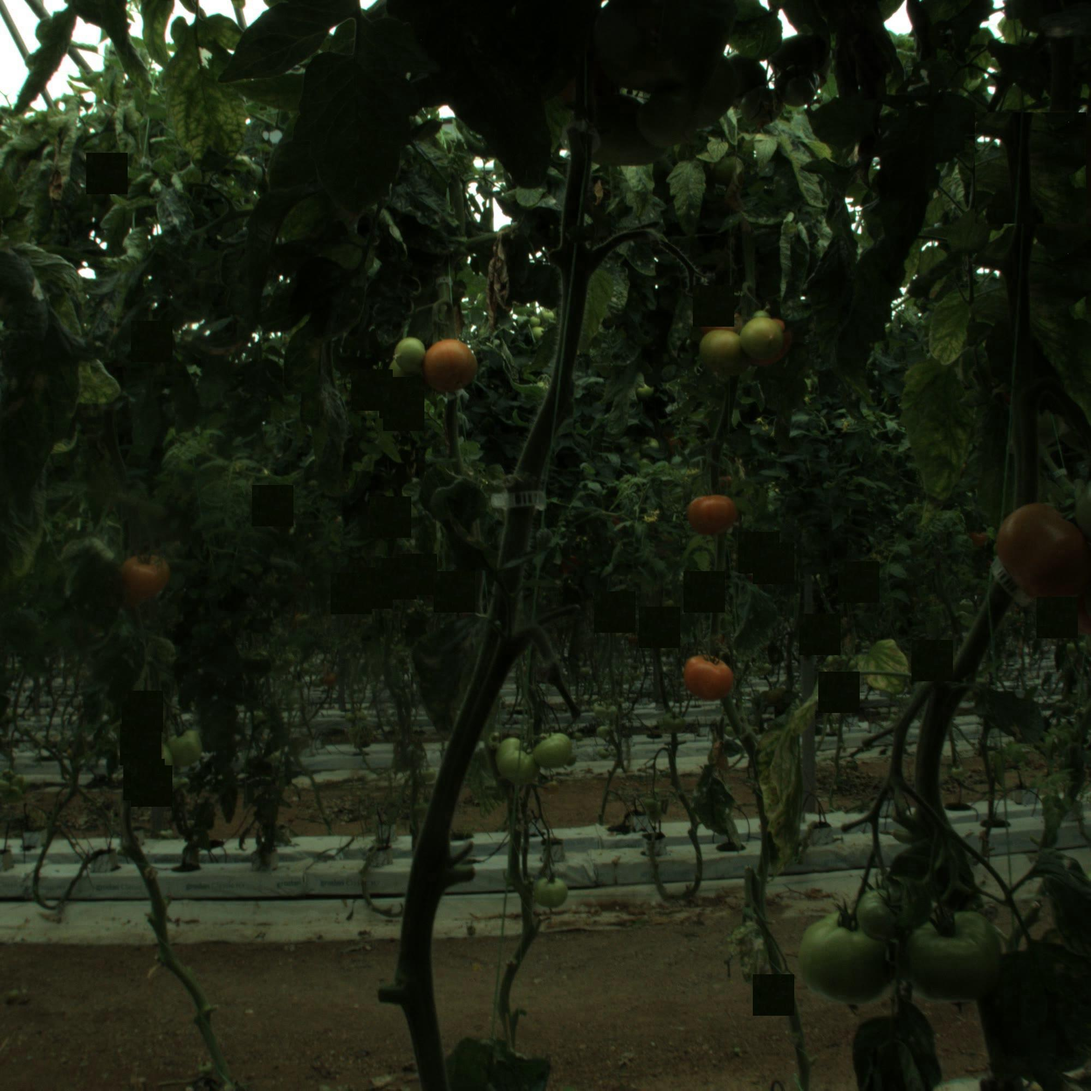['unripe', 'semi-ripe', 'fully-ripe']: (807, 918, 890, 1001), (913, 913, 996, 996), (699, 329, 749, 379), (857, 888, 907, 938), (742, 319, 784, 360), (498, 736, 537, 776), (533, 733, 573, 772), (170, 725, 209, 764), (530, 871, 569, 910), (391, 336, 426, 371)
